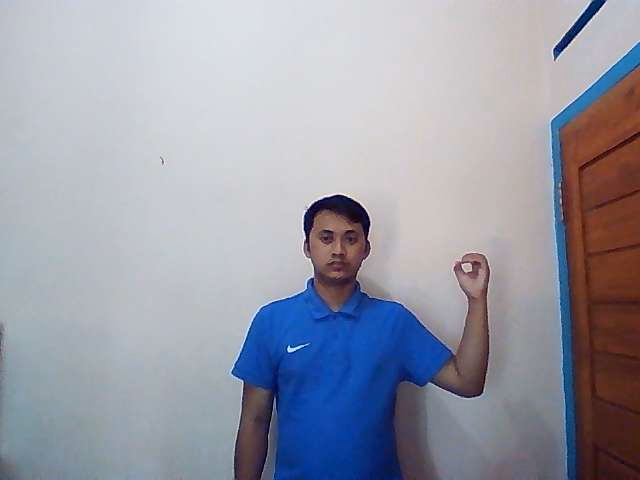O: (453, 252, 492, 300)
